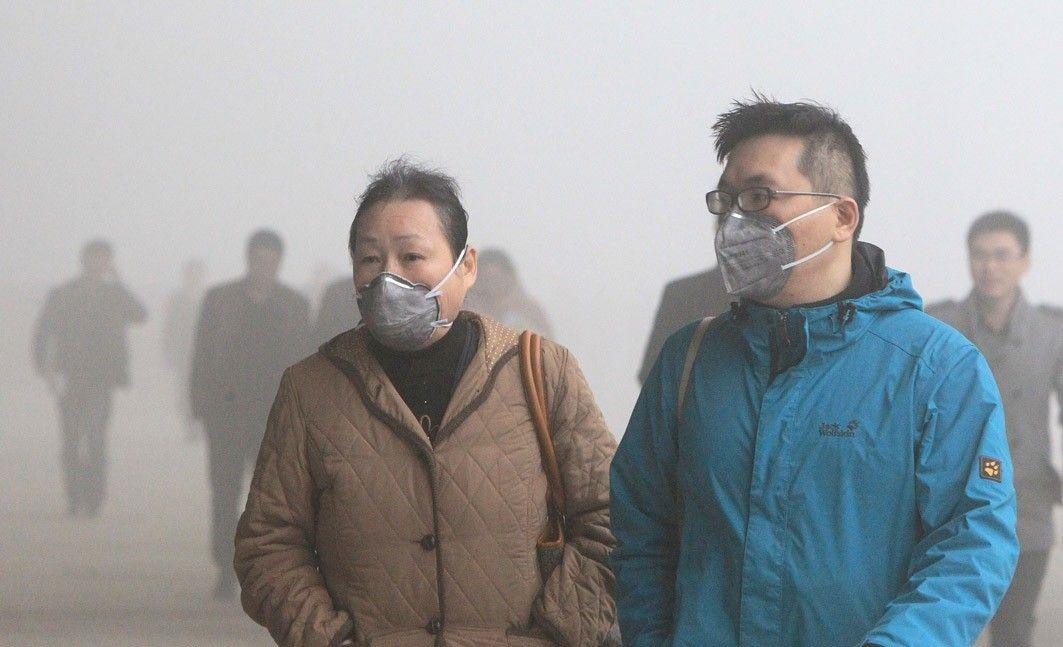NONE: (973, 245, 1022, 295)
OK: (714, 181, 831, 308), (351, 236, 454, 343)
